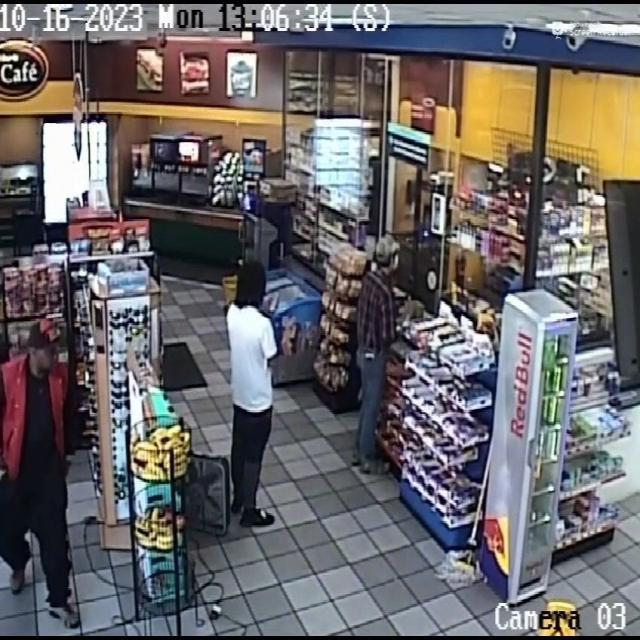normal: (0, 324, 80, 627), (214, 244, 293, 540), (349, 217, 408, 492)
